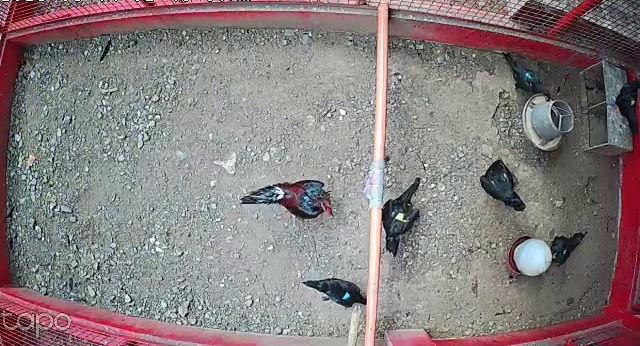Chicken: (380, 176, 427, 260), (497, 48, 553, 102), (480, 154, 530, 213), (300, 272, 367, 312), (548, 229, 587, 267)
Rooster: (235, 174, 340, 229)
Saddle_Color_Blue: (340, 291, 350, 301)
Saddle_Color_Yellow: (391, 211, 414, 222)
